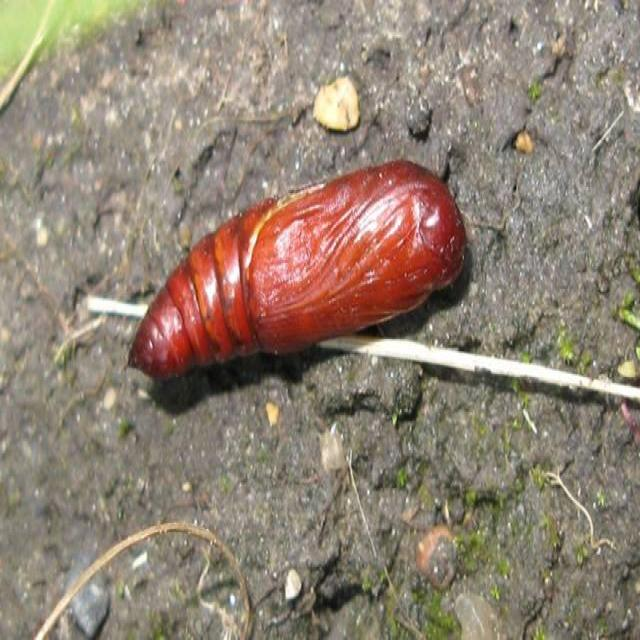armyworm: (133, 165, 481, 398)
